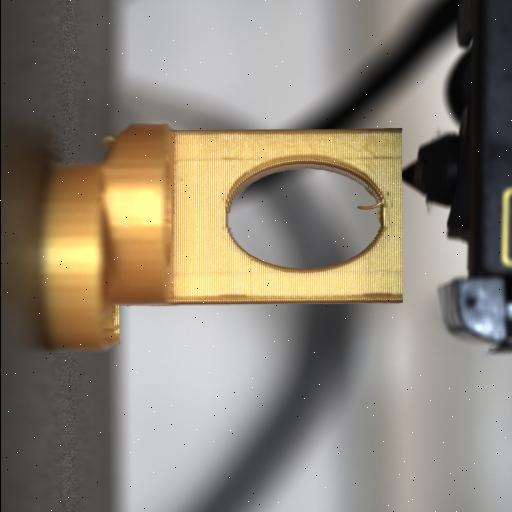layer_shift: (94, 120, 126, 356)
